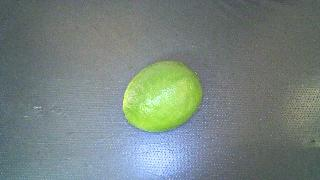EXPORTACION: (123, 61, 202, 132)
